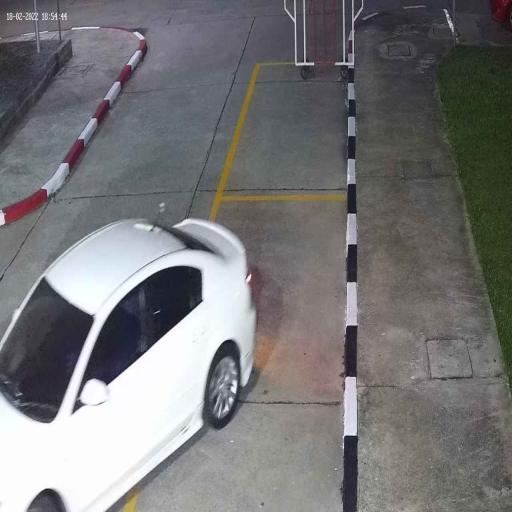car: (0, 212, 258, 512)
